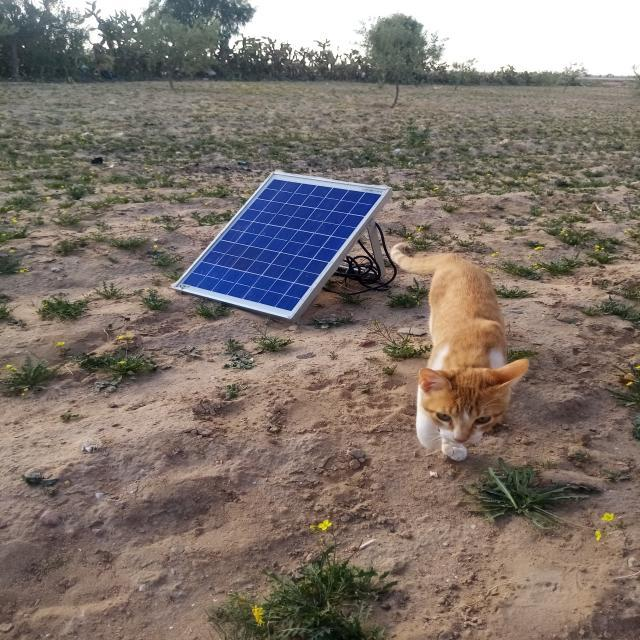no faulty: (174, 172, 389, 319)
